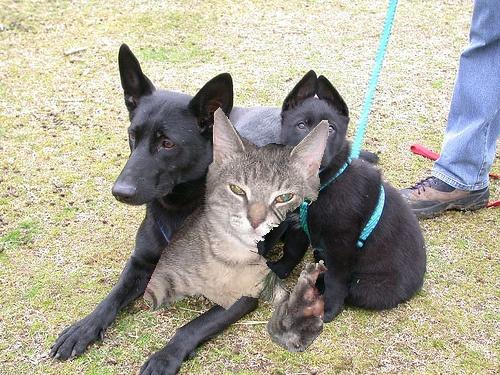tampered: (144, 108, 329, 352)
